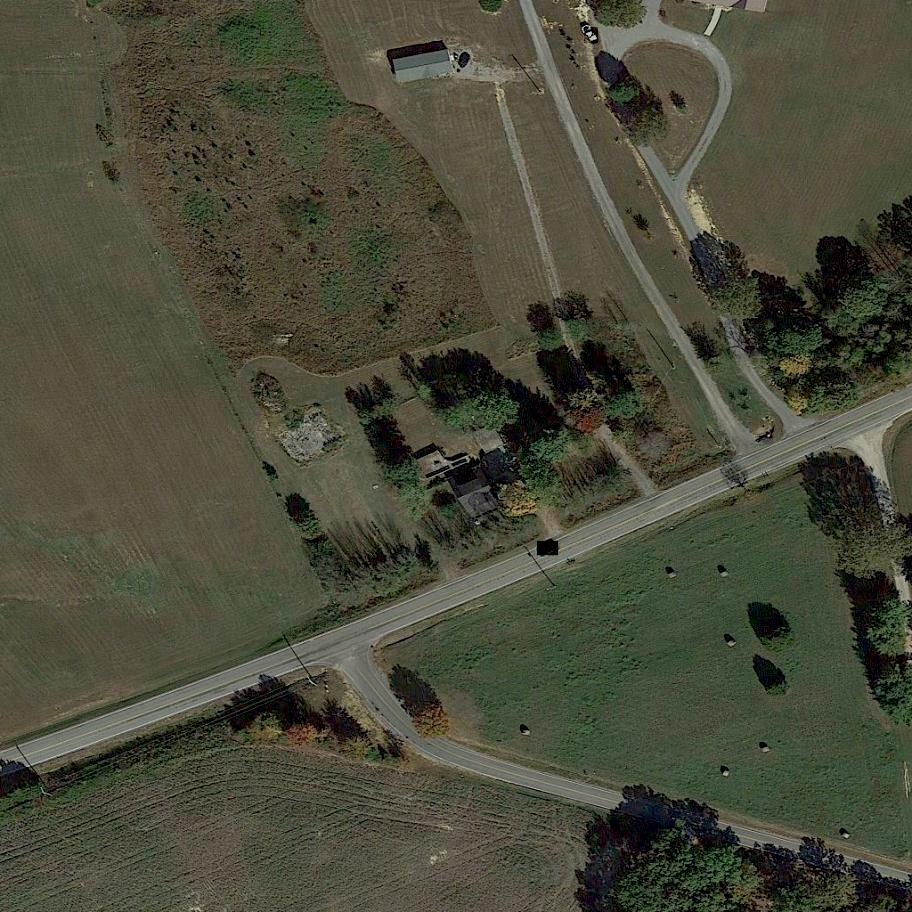small-vehicle: (538, 541, 559, 558), (584, 27, 599, 44)
